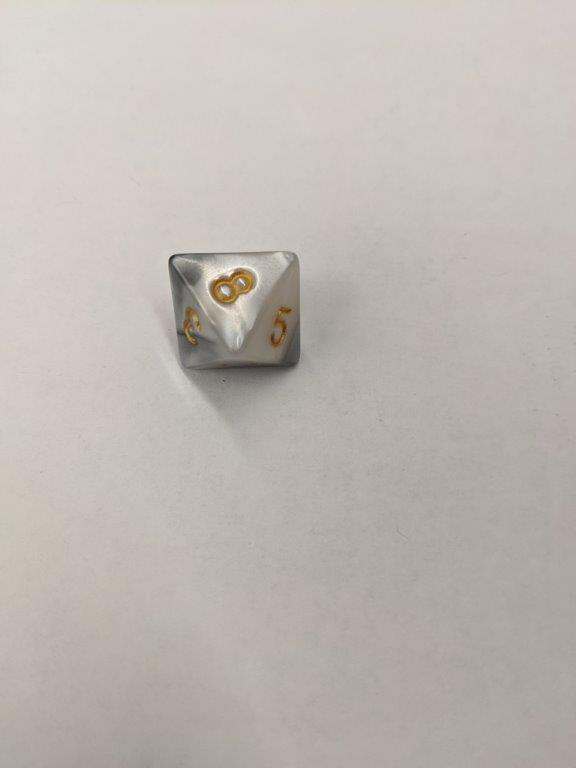d8-8: (168, 249, 303, 372)
